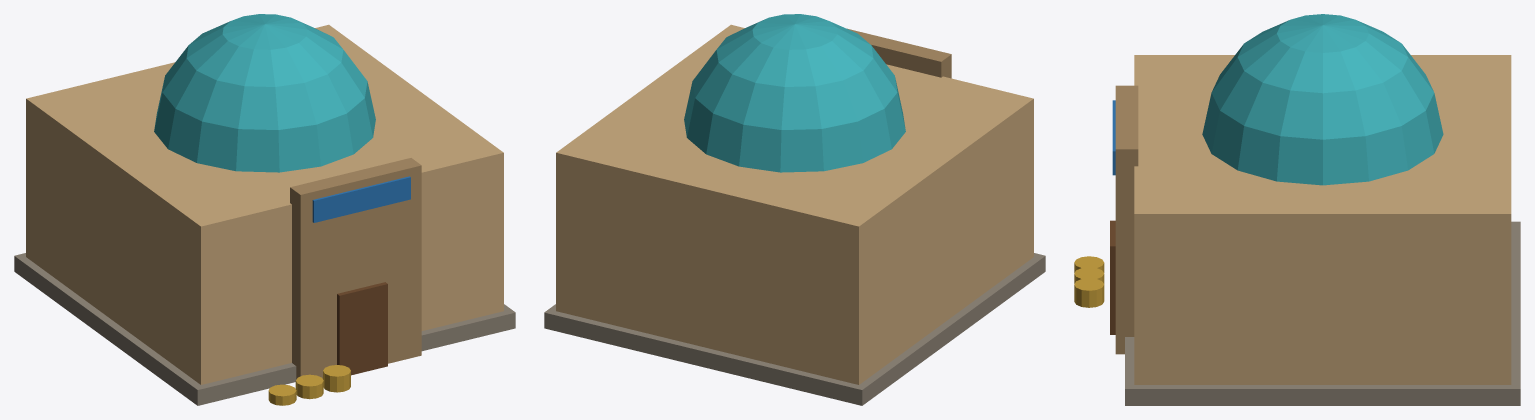
File: mint.glb
The picture shows the model from 3 angles, left to right: view 1: azimuth 30°, elevation 25°; view 2: azimuth 150°, elevation 25°; view 3: azimuth 270°, elevation 25°; orthographic projection. The views are drawn at different scales.
Visible parts, largest first — view 1: Mint; view 2: Mint; view 3: Mint.
Boxes of the visible parts, <box> form: Mint: <box>14,14,515,405</box>; Mint: <box>544,14,1045,405</box>; Mint: <box>1074,14,1520,405</box>.
Size of the model in its own units: 10.5 by 8.7 by 11.85.
